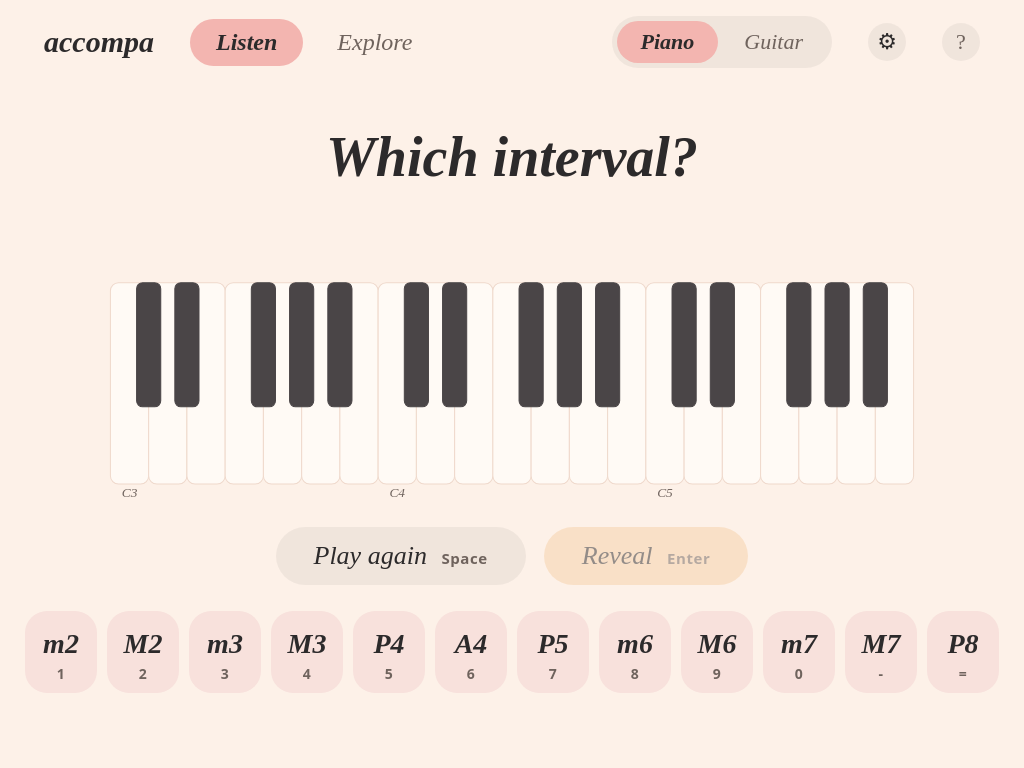
Test case: sound and theme › shows Samples then Synthesized with Samples selected, the hint and the credit, and the three themes
What coordinates should you click on to do the following:
click the button named "Setup"
I would click on:
 (887, 42)
Its box is [868,23,906,61].
(page scrolled)
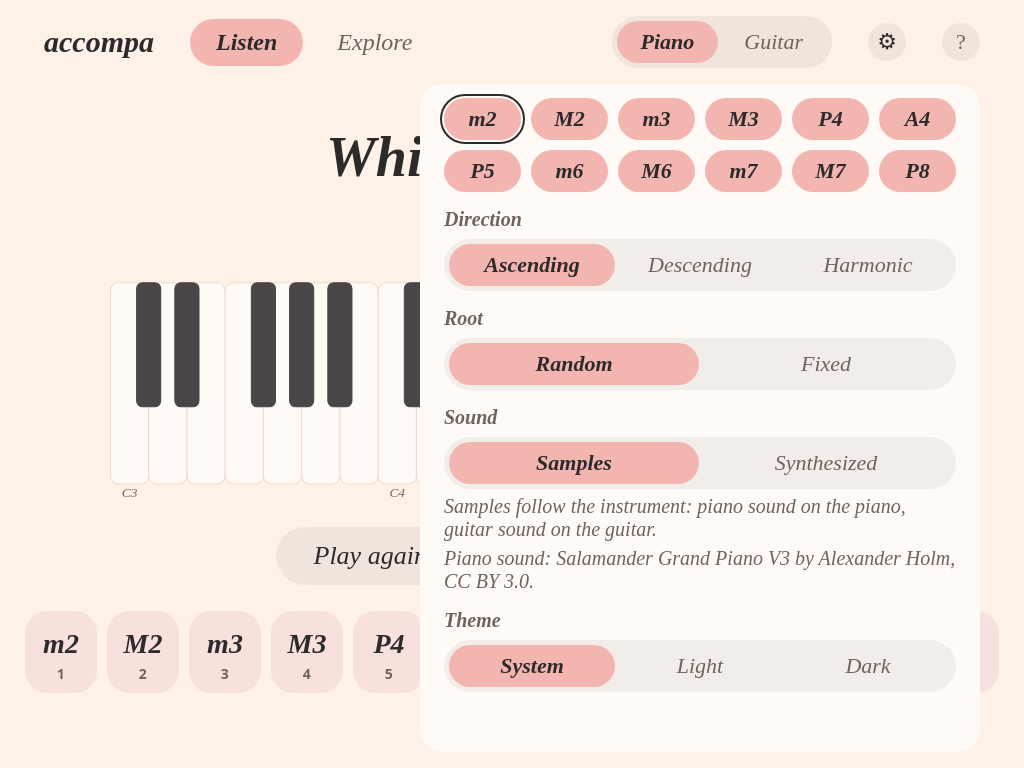
Expected: the radio button labelled "Samples" is checked, [449,442,699,484]
Expected: the radio button labelled "Synthesized" is not checked, [775,450,877,475]
Expected: the element named "Theme" is shown, [444,640,956,692]
